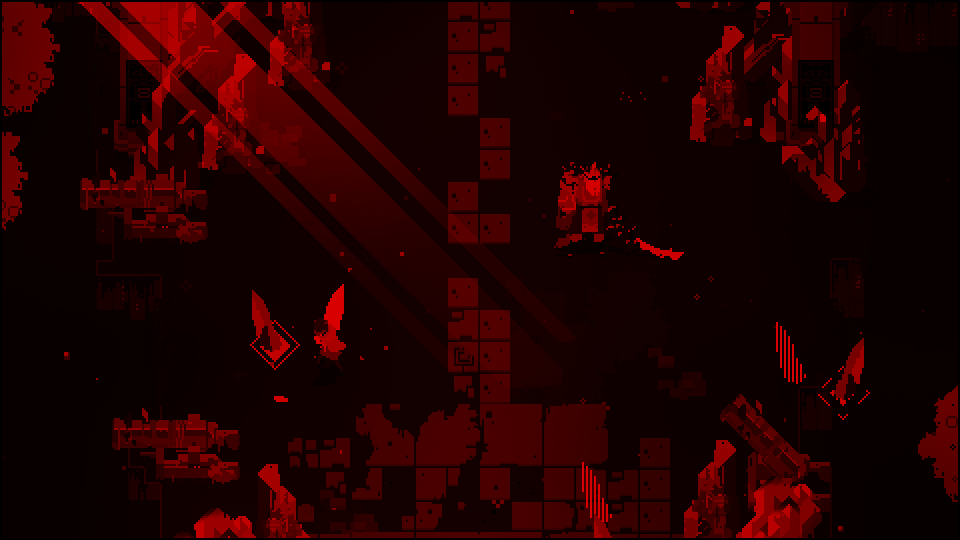hanged_man: (550, 157, 643, 263)
